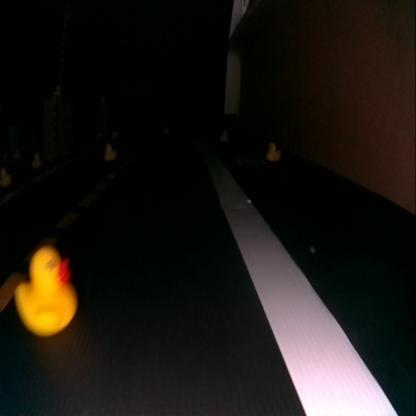Duckie: (18, 247, 78, 334), (266, 141, 281, 161), (105, 142, 115, 160), (31, 153, 40, 168)
